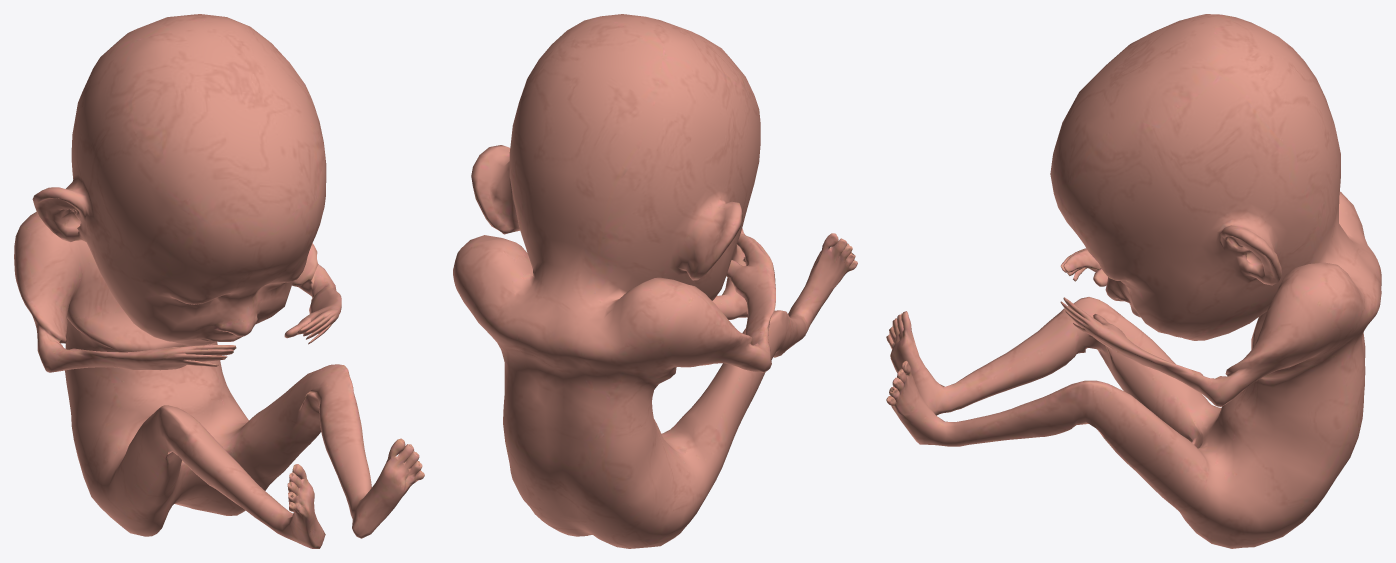
File: pb-w15.41cc1bcf.glb
3 renders of one model, left to right at view 1: azimuth 30°, elevation 25°; view 2: azimuth 150°, elevation 25°; view 3: azimuth 270°, elevation 25°, orthographic.
Visible parts, largest first — view 1: Baby; view 2: Baby; view 3: Baby.
Part boxes in pixels (x1,y1,x2,y2): Baby: [14, 14, 424, 548]; Baby: [453, 14, 857, 548]; Baby: [886, 14, 1381, 548].
Bounding box in the file's own units: 0.0645 × 0.1065 × 0.0954.
1 material, 1 textured.
